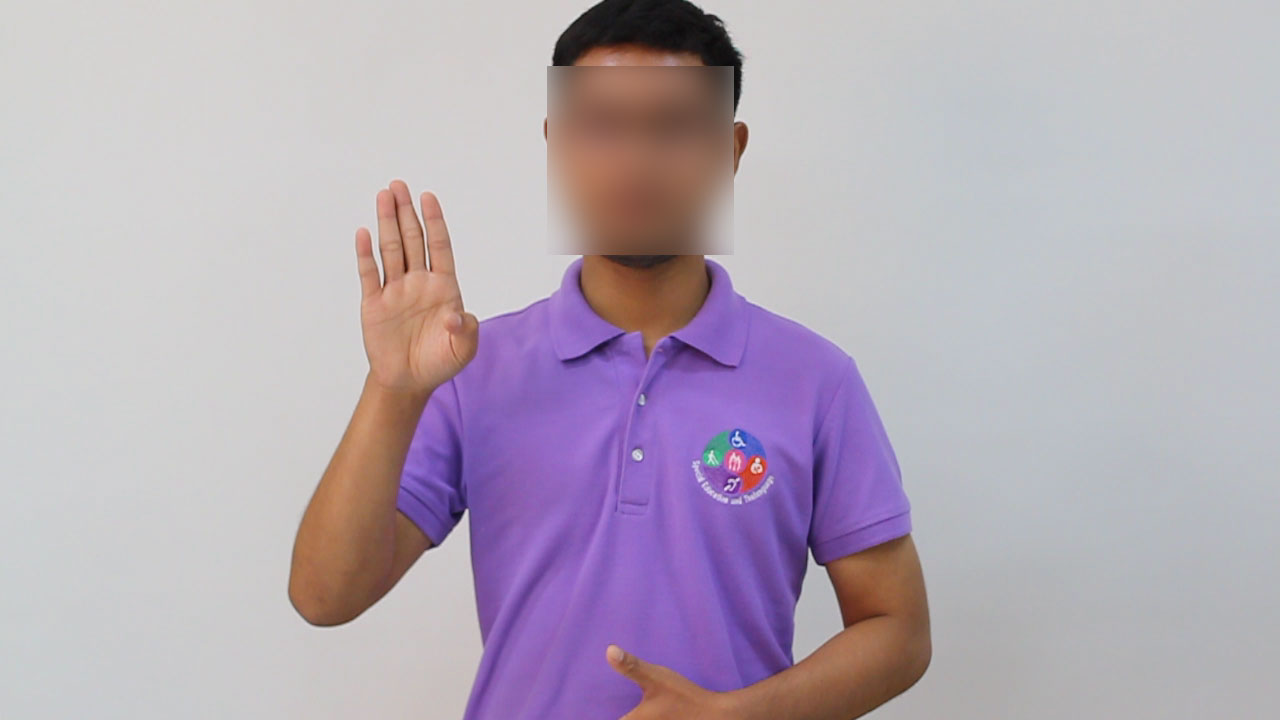bor: (338, 163, 491, 417)
